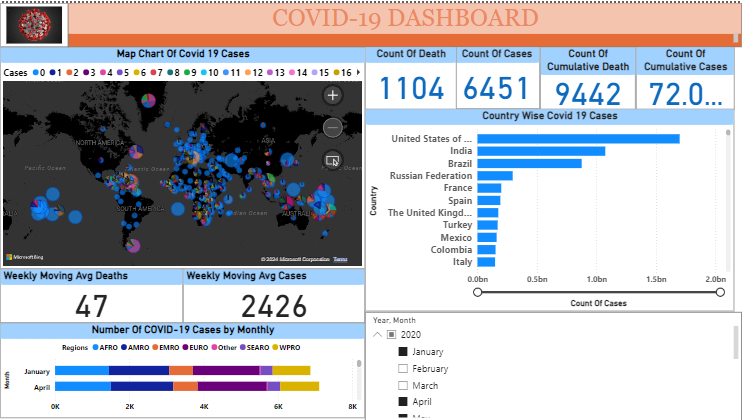

What the dashboard file says about the page in this screenshot:
{"tool":"powerbi","page":{"name":"Page 1","canvas":[1280,720],"ordinal":0},"visuals":[{"type":"barChart","title":"Number Of COVID-19 Cases by Monthly","fields":{"Category":["WHO-COVID-19--GLOBAL-DATA.Date_reported.Variation.Date Hierarchy.Month"],"Series":["WHO-COVID-19--GLOBAL-DATA.WHO_region"],"Y":["CountNonNull(WHO-COVID-19--GLOBAL-DATA.Cumulative_cases)"]},"box":[0,552,629.6,163.9],"z":0},{"type":"map","title":"Map Chart Of Covid 19 Cases ","fields":{"Category":["WHO-COVID-19--GLOBAL-DATA.Country"],"Series":["WHO-COVID-19--GLOBAL-DATA.Cumulative_cases"],"Size":["CountNonNull(WHO-COVID-19--GLOBAL-DATA.New_cases)"]},"box":[0,75.6,629.9,383],"z":1000},{"type":"textbox","title":"COVID-19 DASHBOARD","box":[117.6,0,1162.4,75.6],"z":2000},{"type":"image","box":[0,0,117.6,75.6],"z":3000},{"type":"card","title":"Count Of Cumulative Cases","fields":{"Values":["CountNonNull(WHO-COVID-19--GLOBAL-DATA.Cumulative_cases)"]},"box":[1096.9,75.6,169.7,107.5],"z":4000},{"type":"card","title":"Count Of Cumulative Death","fields":{"Values":["Count(WHO-COVID-19--GLOBAL-DATA.Cumulative_deaths)"]},"box":[932.3,75.6,164.6,107.5],"z":5000},{"type":"card","title":"Count Of Cases","fields":{"Values":["Count(WHO-COVID-19--GLOBAL-DATA.New_cases)"]},"box":[781.5,75.9,150.1,107],"z":6000},{"type":"card","title":"Count Of Death","fields":{"Values":["Count(WHO-COVID-19--GLOBAL-DATA.New_deaths)"]},"box":[629.9,75.6,157.9,107.5],"z":7000},{"type":"card","title":"Weekly Moving Avg Deaths","fields":{"Values":["WHO-COVID-19--GLOBAL-DATA.WeeklyMovingAvgDeaths"]},"box":[0,458.9,315.7,93.2],"z":8000},{"type":"card","title":"Weekly Moving Avg Cases","fields":{"Values":["WHO-COVID-19--GLOBAL-DATA.WeeklyMovingAvgCases"]},"box":[315.7,458.9,314,93.2],"z":9000},{"type":"barChart","title":"Country Wise Covid 19 Cases","fields":{"Category":["WHO-COVID-19--GLOBAL-DATA.Country"],"Y":["Sum(WHO-COVID-19--GLOBAL-DATA.Cumulative_cases)"]},"box":[629.9,183.1,636.6,349.4],"z":10000},{"type":"slicer","fields":{"Values":["WHO-COVID-19--GLOBAL-DATA.Date_reported.Variation.Date Hierarchy.Year","WHO-COVID-19--GLOBAL-DATA.Date_reported.Variation.Date Hierarchy.Month"]},"box":[629.9,532.5,650.1,188.1],"z":11000}]}

Visuals, with their boxes in screenshot pixels (x1, y1, x2, y2), scaled from the page's 1280x720 canvas onto the 742x420 screenshot:
"Number Of COVID-19 Cases by Monthly" barChart: bbox(0, 322, 365, 418)
"Map Chart Of Covid 19 Cases " map: bbox(0, 44, 365, 268)
"COVID-19 DASHBOARD" textbox: bbox(68, 0, 741, 44)
image: bbox(0, 0, 68, 44)
"Count Of Cumulative Cases" card: bbox(636, 44, 734, 107)
"Count Of Cumulative Death" card: bbox(540, 44, 636, 107)
"Count Of Cases" card: bbox(453, 44, 540, 107)
"Count Of Death" card: bbox(365, 44, 457, 107)
"Weekly Moving Avg Deaths" card: bbox(0, 268, 183, 322)
"Weekly Moving Avg Cases" card: bbox(183, 268, 365, 322)
"Country Wise Covid 19 Cases" barChart: bbox(365, 107, 734, 311)
slicer - WHO-COVID-19--GLOBAL-DATA.Date_reported.Variation.Date Hierarchy.Year x WHO-COVID-19--GLOBAL-DATA.Date_reported.Variation.Date Hierarchy.Month: bbox(365, 311, 741, 419)
